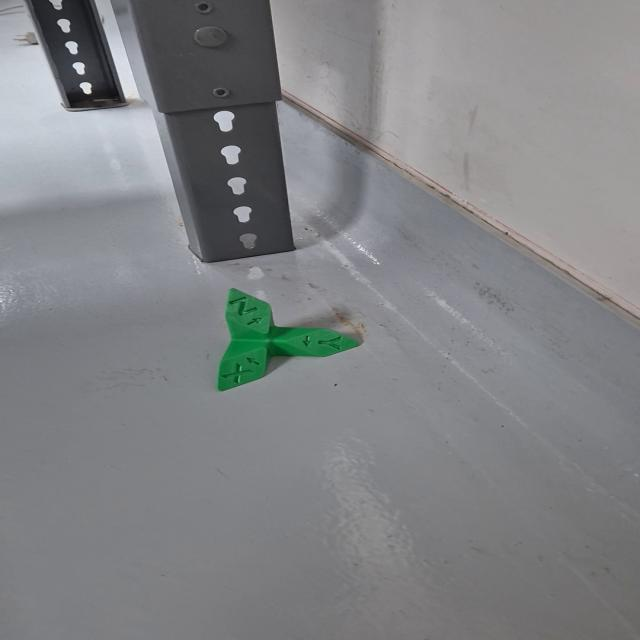eje: (202, 286, 376, 394)
